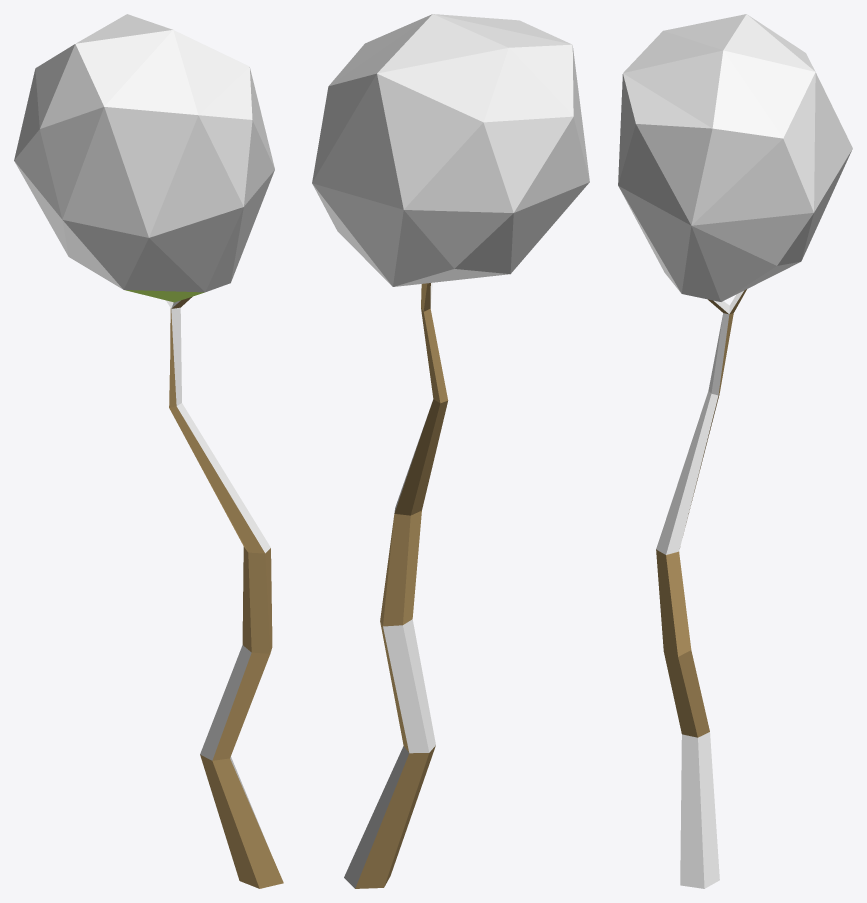
Rendered from Simple_Tree_s_Snow_BT_01.fbx.
3 renders of one model, left to right at view 1: azimuth 30°, elevation 25°; view 2: azimuth 150°, elevation 25°; view 3: azimuth 270°, elevation 25°, orthographic. The views are drawn at different scales.
Parts seen in each view (by area): view 1: Simple_Tree_s_Snow_BT_01; view 2: Simple_Tree_s_Snow_BT_01; view 3: Simple_Tree_s_Snow_BT_01.
Part boxes in pixels (bbox=[...]): Simple_Tree_s_Snow_BT_01: bbox=[14, 14, 283, 888]; Simple_Tree_s_Snow_BT_01: bbox=[312, 14, 589, 888]; Simple_Tree_s_Snow_BT_01: bbox=[618, 14, 852, 888].
Bounding box in the file's own units: 112 × 401 × 107.
